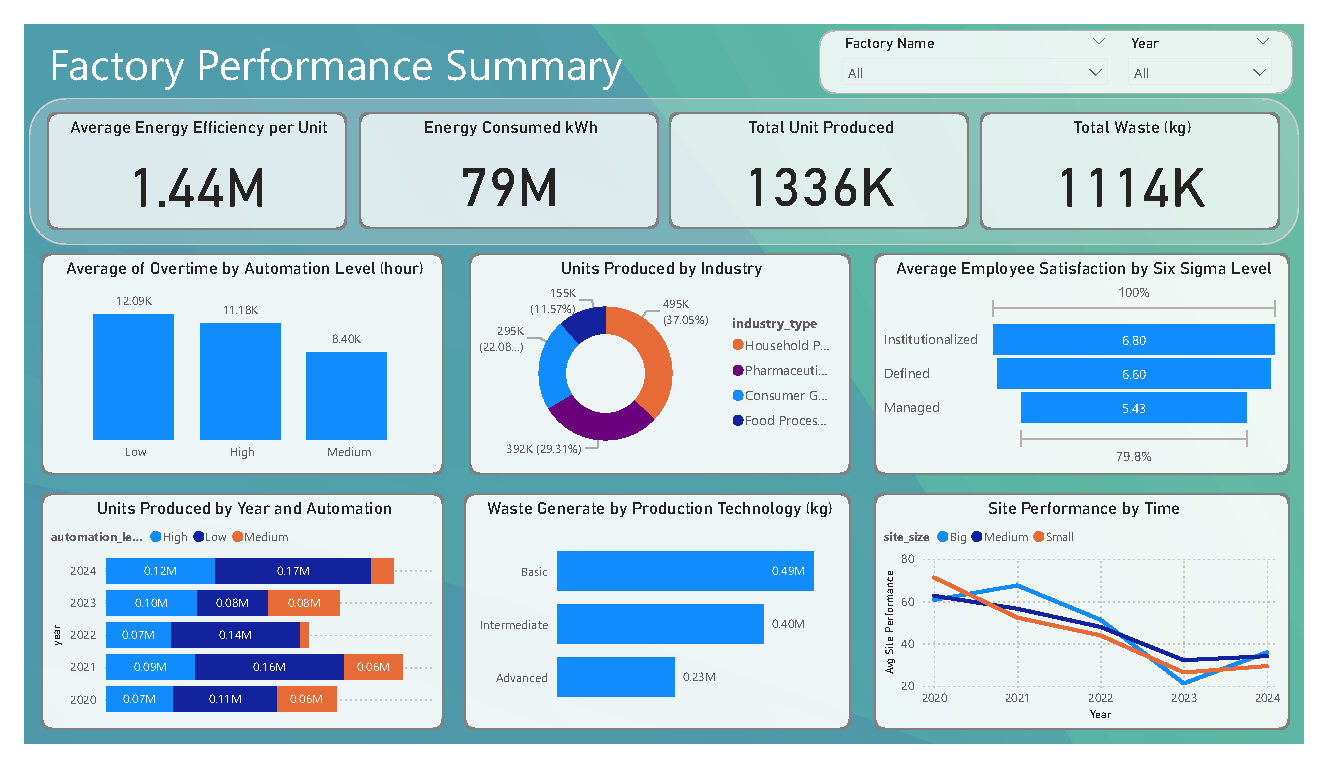

This screenshot's page, from the dashboard's own definition file:
{"tool":"powerbi","page":{"name":"Page 1","canvas":[1280,720],"ordinal":0},"visuals":[{"type":"shape","box":[5,73.8,1270,147.5],"z":0},{"type":"columnChart","title":"Average of Overtime by Automation Level (hour)","fields":{"Category":["public factory_data.automation_level"],"Y":["Avg(public factory_data.overtime_hours)"]},"box":[17.2,228.6,402.5,222.5],"z":1000},{"type":"donutChart","title":"Units Produced by Industry","fields":{"Category":["public factory_data.industry_type"],"Y":["Sum(public factory_data.total_units_produced)"]},"box":[444.7,228.6,382.5,222.5],"z":2000},{"type":"clusteredBarChart","title":"Waste Generate by Production Technology (kg)","fields":{"Category":["public factory_data.production_technology_level"],"Y":["Sum(public factory_data.waste_generated_kg)"]},"box":[439.7,468.6,387.5,237.5],"z":3000},{"type":"funnel","title":"Average Employee Satisfaction by Six Sigma Level","fields":{"Category":["public factory_data.six_sigma_maturity_level"],"Y":["Avg(public factory_data.employee_satisfaction)"]},"box":[849.7,228.6,416.2,222.5],"z":4000},{"type":"card","title":"Total Unit Produced","fields":{"Values":["Sum(public factory_data.total_units_produced)"]},"box":[645,87.5,300,117.5],"z":5000},{"type":"card","title":"Total Waste (kg)","fields":{"Values":["Sum(public factory_data.waste_generated_kg)"]},"box":[956.2,87.5,300,118.8],"z":6000},{"type":"card","title":"Average Energy Efficiency per Unit","fields":{"Values":["Avg(public factory_data.energy_efficiency_kwh_per_unit)"]},"box":[22.5,87.5,300,118.8],"z":7000},{"type":"card","title":"Energy Consumed kWh","fields":{"Values":["Sum(public factory_data.energy_consumed_kwh)"]},"box":[335,87.5,300,117.5],"z":8000},{"type":"barChart","title":"Units Produced by Year and Automation","fields":{"Category":["public factory_data.year"],"Y":["Sum(public factory_data.total_units_produced)"],"Series":["public factory_data.automation_level"]},"box":[17.2,468.6,402.5,237.5],"z":9000},{"type":"lineChart","title":"Site Performance by Time","fields":{"Y":["Avg(site_performance.site_performance)"],"Category":["site_performance.year"],"Series":["site_performance.site_size"]},"box":[849.7,468.6,416.2,237.5],"z":10000},{"type":"textbox","box":[20,5,590,67.5],"z":11000},{"type":"shape","box":[795,6.2,473.8,63.8],"z":12000},{"type":"slicer","fields":{"Values":["public factory_data.year"]},"box":[1093.7,6.2,163.8,63.8],"z":13000,"group":"g1"},{"type":"slicer","fields":{"Values":["public factory_data.factory_name"]},"box":[807.5,6.2,286.2,63.8],"z":14000,"group":"g1"},{"type":"group","id":"g1","title":"Group 1","box":[807.5,6.2,450,63.8],"z":14001}]}

Visuals, with their boxes in screenshot pixels (x1, y1, x2, y2), scaled from the page's 1280x720 canvas onto the 1328x768 screenshot:
shape: [5, 79, 1323, 236]
"Average of Overtime by Automation Level (hour)" columnChart: [18, 244, 435, 481]
"Units Produced by Industry" donutChart: [461, 244, 858, 481]
"Waste Generate by Production Technology (kg)" clusteredBarChart: [456, 500, 858, 753]
"Average Employee Satisfaction by Six Sigma Level" funnel: [882, 244, 1313, 481]
"Total Unit Produced" card: [669, 93, 980, 219]
"Total Waste (kg)" card: [992, 93, 1303, 220]
"Average Energy Efficiency per Unit" card: [23, 93, 335, 220]
"Energy Consumed kWh" card: [348, 93, 659, 219]
"Units Produced by Year and Automation" barChart: [18, 500, 435, 753]
"Site Performance by Time" lineChart: [882, 500, 1313, 753]
textbox: [21, 5, 633, 77]
shape: [825, 7, 1316, 75]
slicer - public factory_data.year: [1135, 7, 1305, 75]
slicer - public factory_data.factory_name: [838, 7, 1135, 75]
"Group 1" group: [838, 7, 1305, 75]
